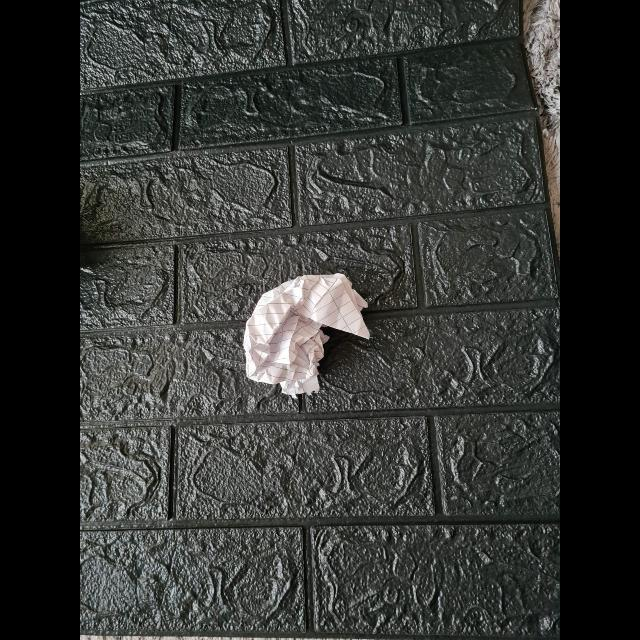scrap_paper: (246, 274, 370, 392)
